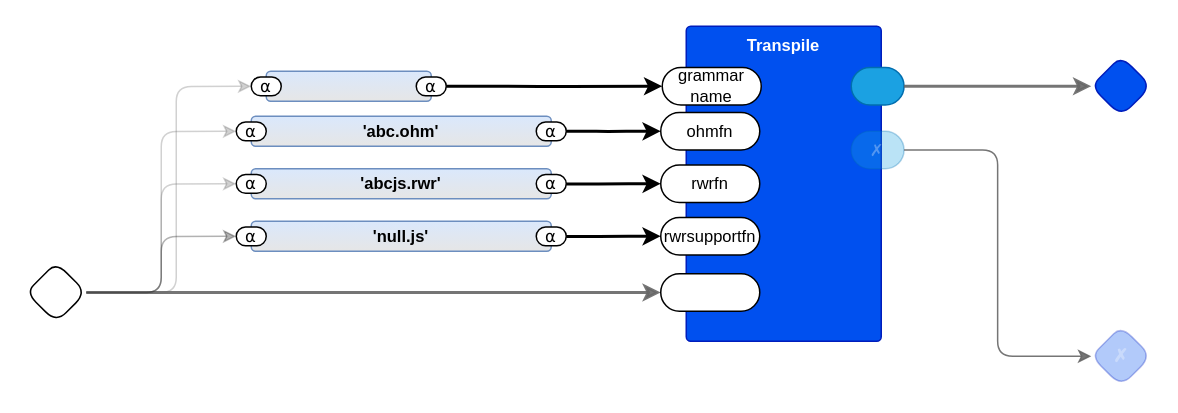
This 1178x413 diagram has some shape labels left out. The box of each missing label's shape, as (x1, y1, x2, y2) in pixels:
'ABC': (265, 70, 431, 101)
input: (659, 272, 760, 311)
